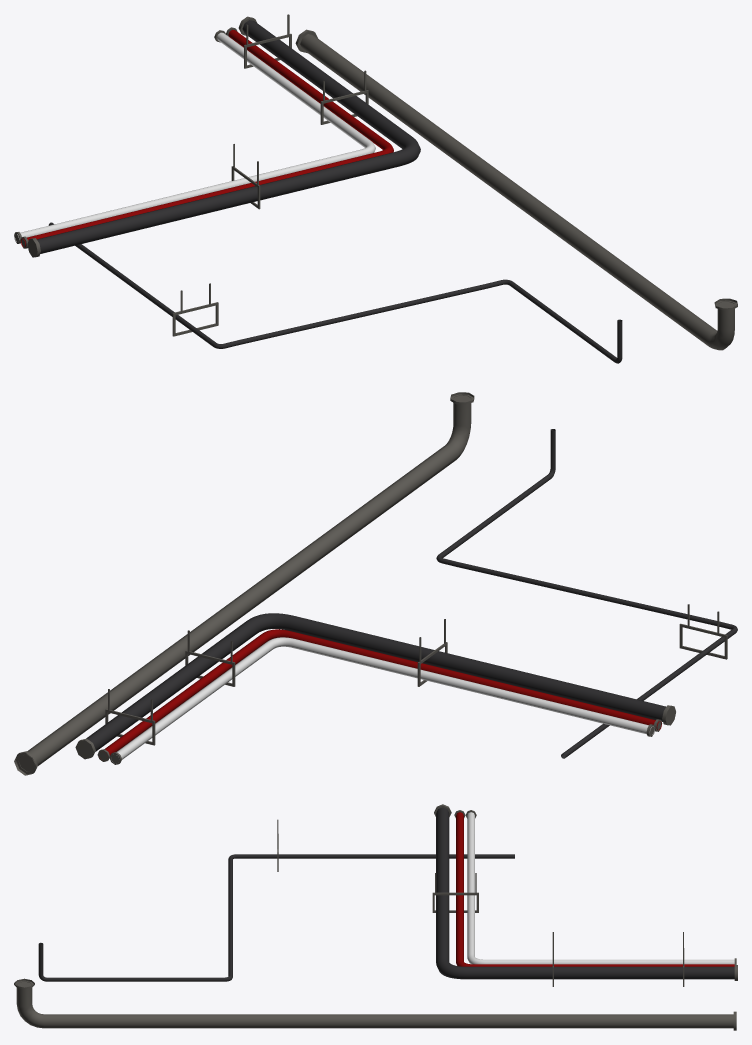
The model's file is SM_H_Building_Tide_Jail_B_01_Pipeline_01_ATLAS.fbx.
3 renders of one model, top to bottom at view 1: azimuth 30°, elevation 25°; view 2: azimuth 150°, elevation 25°; view 3: azimuth 270°, elevation 25°, orthographic. The views are drawn at different scales.
Parts seen in each view (by area): view 1: SM_H_Building_Tide_Jail_B_01_Pipeline_01_ATLAS; view 2: SM_H_Building_Tide_Jail_B_01_Pipeline_01_ATLAS; view 3: SM_H_Building_Tide_Jail_B_01_Pipeline_01_ATLAS.
Part boxes in pixels (box(x1,y1,x2,y2)): SM_H_Building_Tide_Jail_B_01_Pipeline_01_ATLAS: box(14, 14, 737, 363); SM_H_Building_Tide_Jail_B_01_Pipeline_01_ATLAS: box(14, 392, 737, 775); SM_H_Building_Tide_Jail_B_01_Pipeline_01_ATLAS: box(14, 804, 737, 1030).
Bounding box in the file's own units: 1715 × 2771 × 270.
